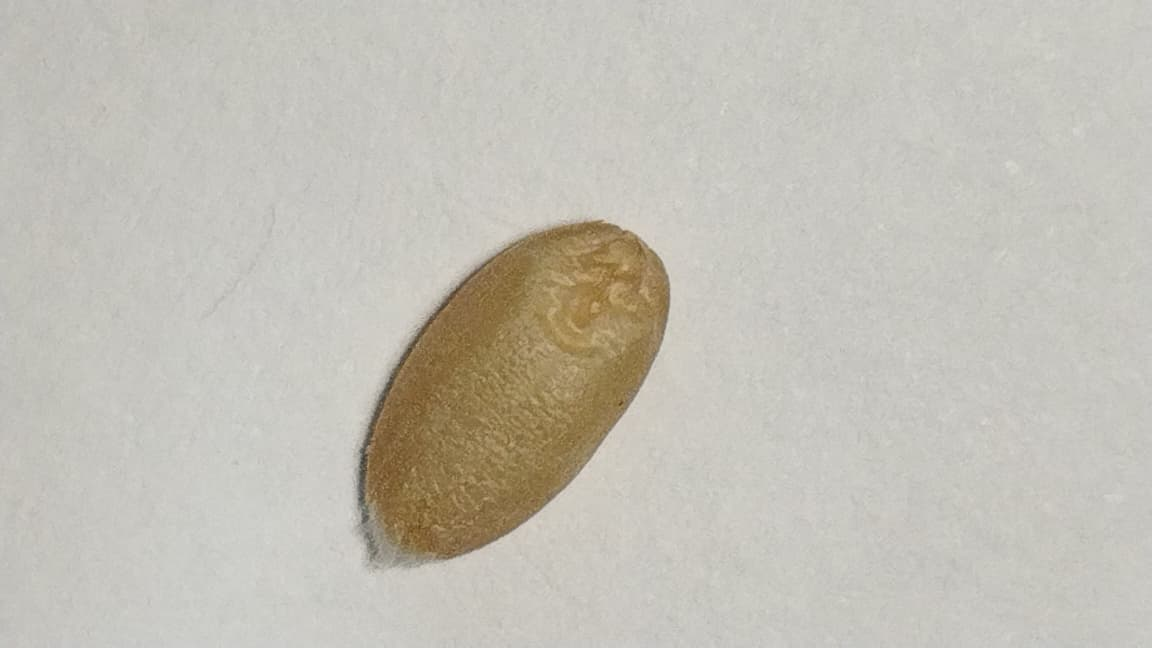healthy: (364, 221, 668, 563)
